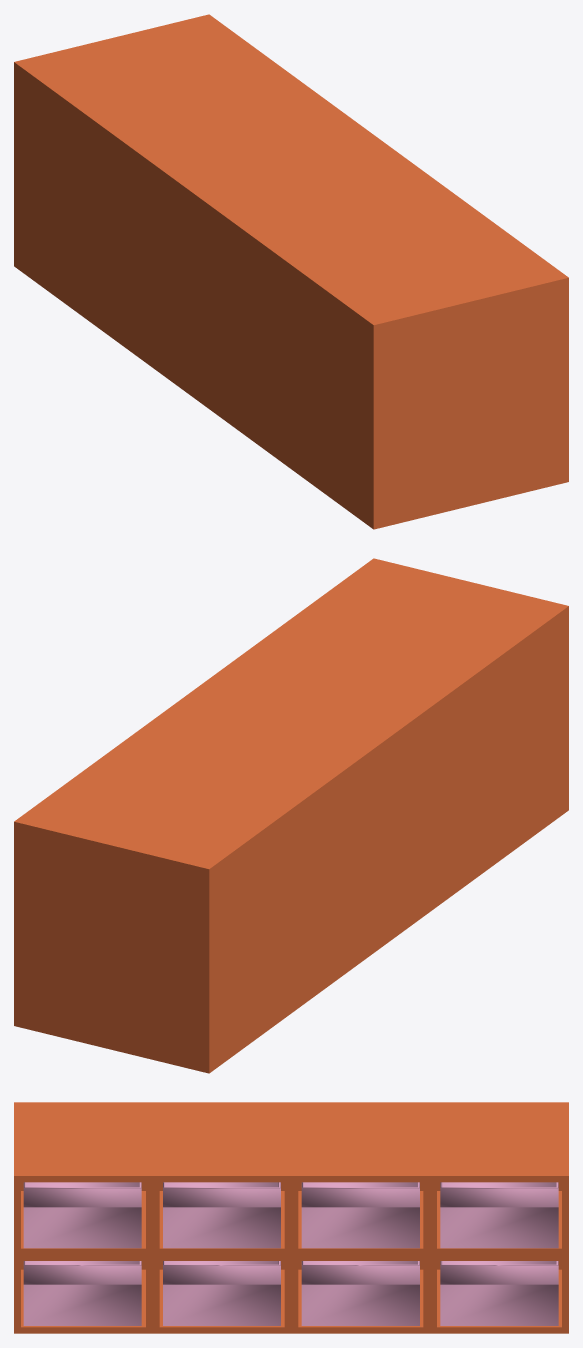
File: Kallax-Box.fbx
3 views of the same model, one above another, from view 1: azimuth 30°, elevation 25°; view 2: azimuth 150°, elevation 25°; view 3: azimuth 270°, elevation 25° (orthographic). The views are drawn at different scales.
Visible parts, largest first — view 1: Kallax.001; view 2: Kallax.001; view 3: Kallax.001, Box-4, Box-1, Box-3, Box-2, Box-5, Box-7, Box-8, Box-6.
Part boxes in pixels (x1,y1,x2,y2): Kallax.001: [14, 14, 568, 529]; Kallax.001: [14, 558, 568, 1073]; Kallax.001: [14, 1102, 568, 1333]; Box-4: [440, 1182, 558, 1248]; Box-1: [23, 1182, 141, 1248]; Box-3: [301, 1182, 419, 1248]; Box-2: [163, 1182, 280, 1248]; Box-5: [23, 1261, 141, 1325]; Box-7: [301, 1261, 419, 1325]; Box-8: [440, 1261, 558, 1325]; Box-6: [163, 1261, 280, 1325].
Bounding box in the file's own units: 125 × 123 × 393.
